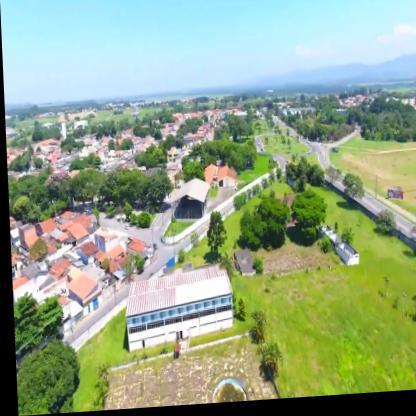agua: (211, 383, 241, 403)
